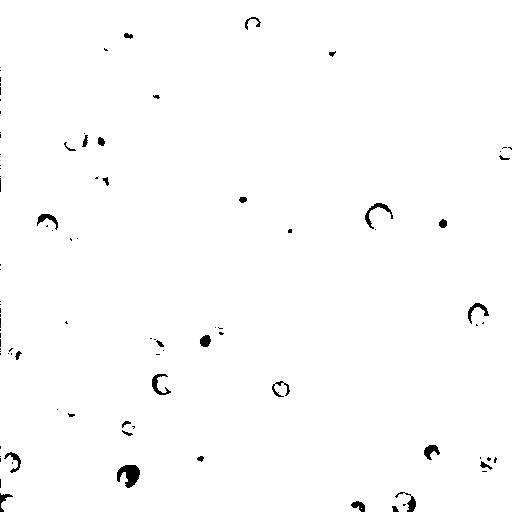micro-algae: (284, 93, 403, 208), (373, 46, 469, 140), (239, 94, 316, 173), (290, 4, 360, 72), (370, 126, 423, 181), (33, 275, 84, 327), (92, 381, 142, 431), (134, 460, 179, 506), (1, 90, 37, 135), (91, 0, 148, 24), (0, 8, 20, 73), (387, 459, 424, 494), (185, 326, 222, 357), (50, 313, 84, 345), (364, 201, 394, 232), (56, 392, 85, 424), (86, 168, 116, 198), (30, 211, 60, 240), (254, 346, 283, 376), (114, 463, 142, 492), (472, 444, 500, 473), (428, 212, 457, 239), (323, 40, 352, 65), (60, 127, 89, 152), (61, 362, 86, 388), (62, 221, 89, 245), (6, 342, 30, 369), (150, 372, 177, 396), (467, 302, 492, 327), (389, 490, 417, 512), (88, 129, 111, 155), (329, 310, 355, 333), (1, 451, 22, 478), (138, 336, 166, 356), (398, 261, 421, 284), (158, 482, 181, 505), (0, 491, 25, 512), (186, 447, 211, 468), (422, 443, 444, 466), (93, 40, 114, 62), (281, 216, 301, 239), (119, 26, 142, 45), (243, 15, 263, 35), (276, 86, 294, 108), (271, 380, 292, 398), (120, 419, 138, 437), (344, 499, 366, 512), (497, 145, 511, 162), (154, 505, 186, 512), (438, 66, 452, 80), (116, 0, 143, 7), (236, 194, 249, 205), (431, 507, 450, 511)
